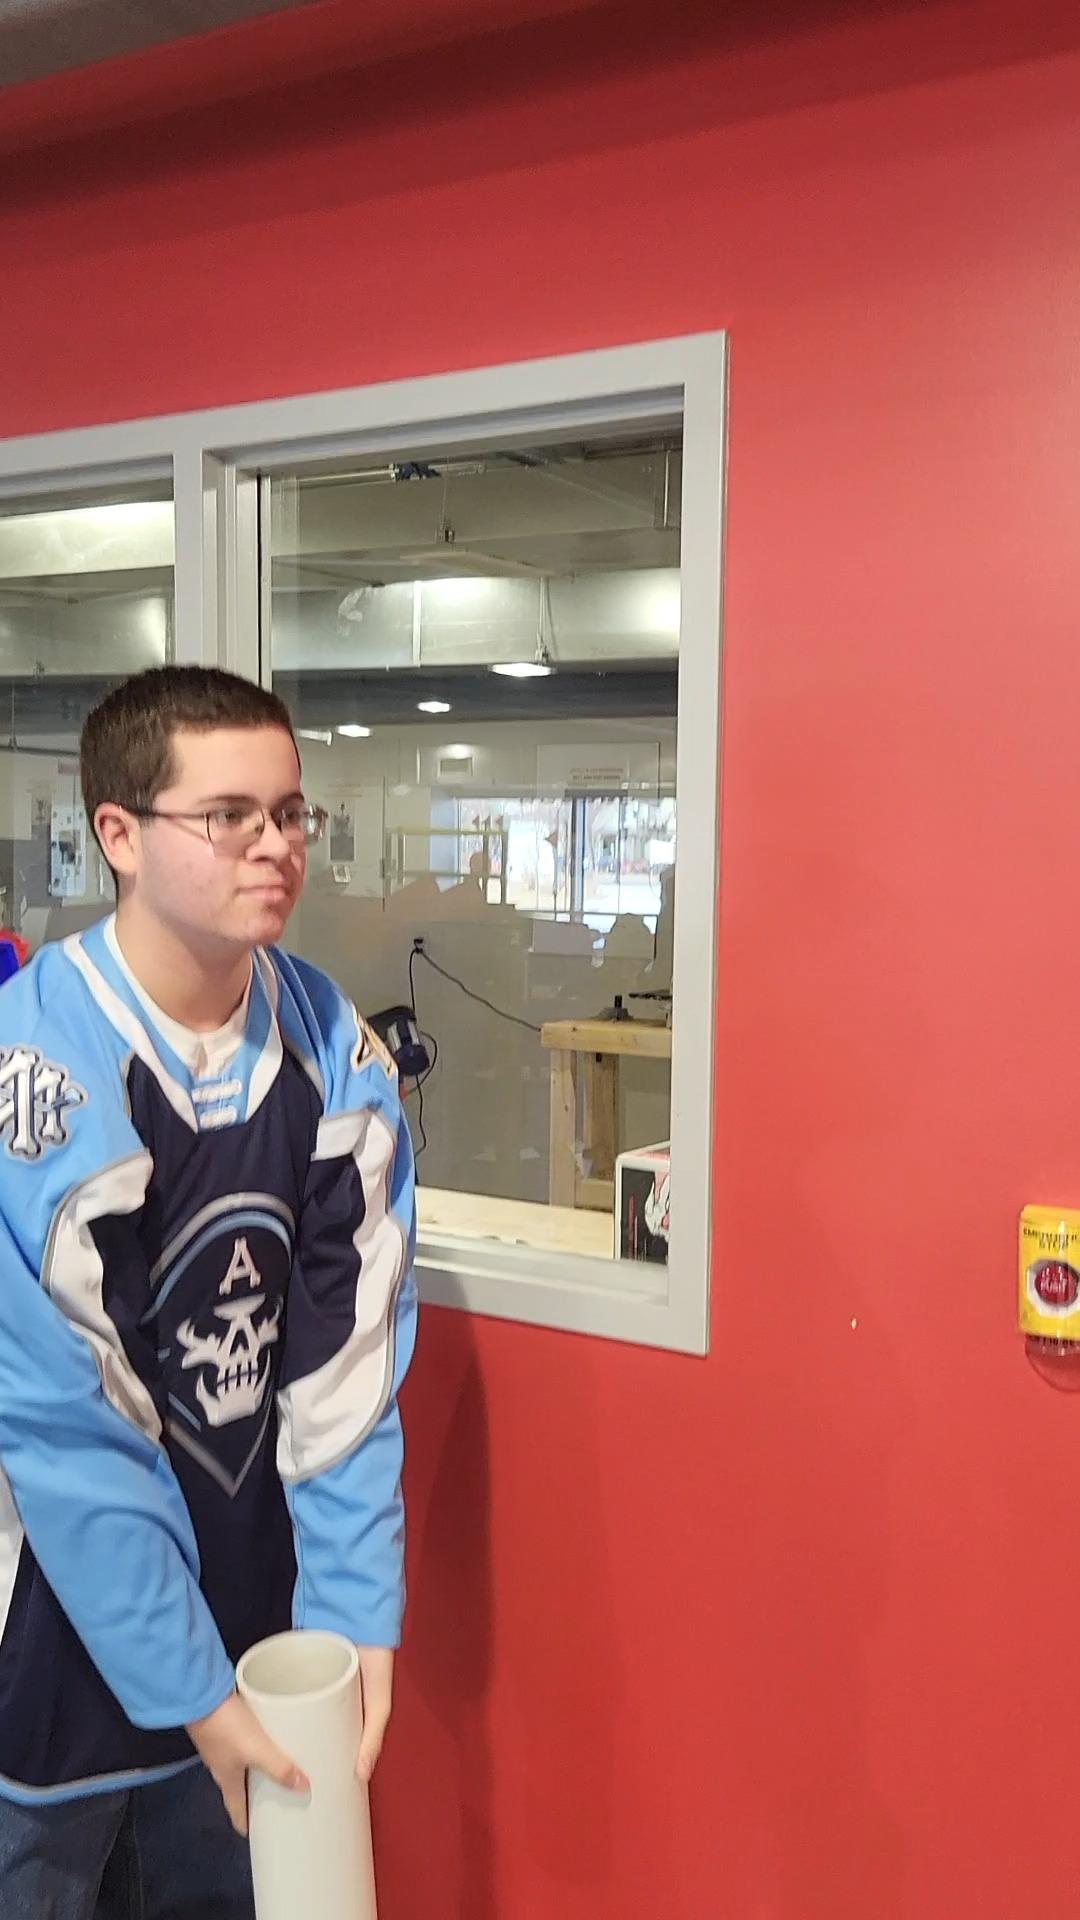coral: (229, 1630, 386, 1920)
